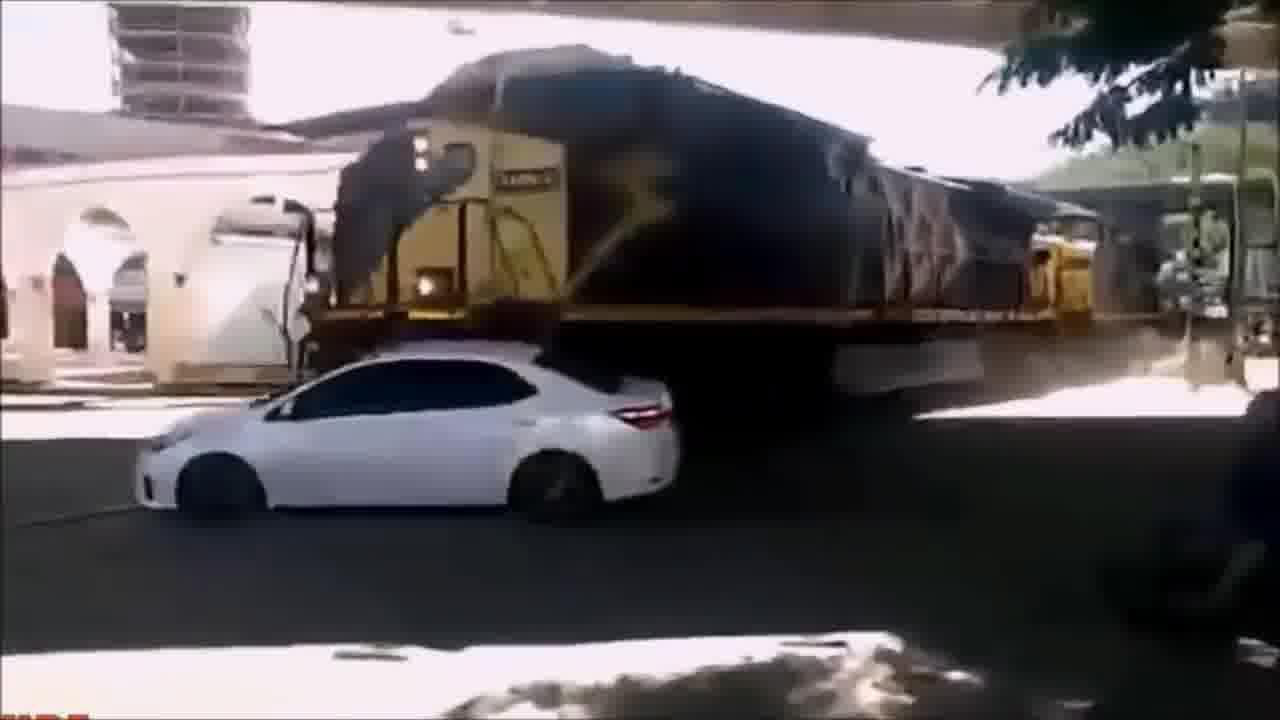crossing railway track: (90, 263, 744, 547)
